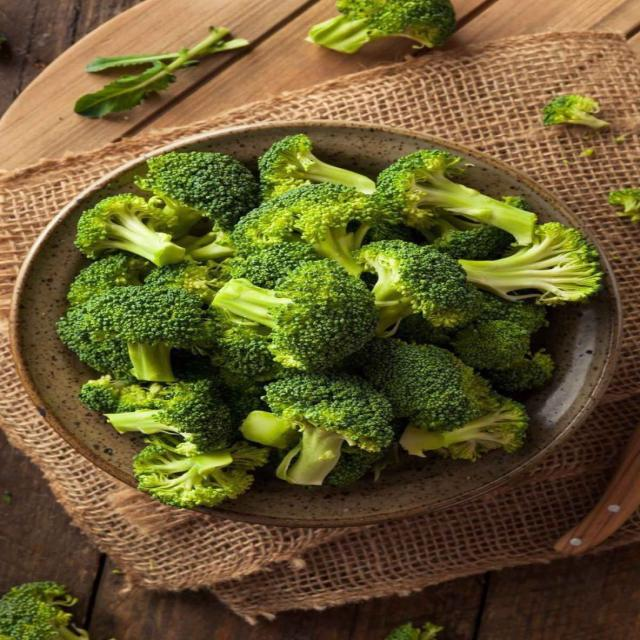broccoli: (213, 260, 378, 369), (241, 373, 393, 485), (233, 184, 399, 276), (59, 286, 219, 381), (378, 151, 536, 244), (354, 338, 491, 430), (357, 241, 478, 336), (460, 223, 601, 304), (106, 380, 235, 455), (134, 436, 268, 507), (137, 152, 259, 228), (400, 396, 528, 461), (75, 194, 185, 266), (307, 0, 455, 53), (259, 134, 375, 199), (57, 305, 133, 380), (0, 582, 88, 639), (67, 253, 152, 305), (422, 212, 513, 259), (212, 323, 285, 380), (229, 242, 319, 288), (451, 320, 530, 369), (146, 261, 228, 304), (79, 376, 164, 413), (477, 290, 546, 333), (486, 350, 554, 392), (219, 370, 266, 428), (323, 447, 385, 486), (543, 95, 609, 129), (176, 229, 234, 262), (394, 314, 452, 346), (172, 350, 218, 381), (363, 223, 424, 244), (609, 189, 639, 222), (386, 623, 443, 639), (502, 196, 532, 211)
